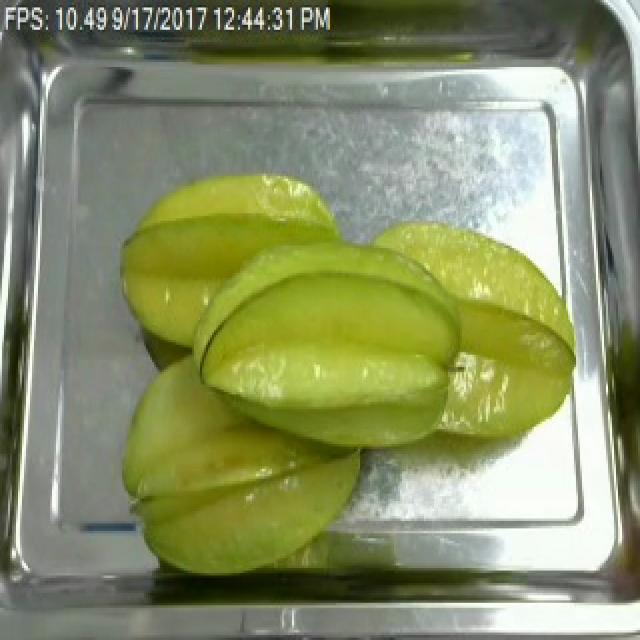fruit: (178, 206, 474, 464), (106, 374, 376, 593), (408, 211, 586, 456)
